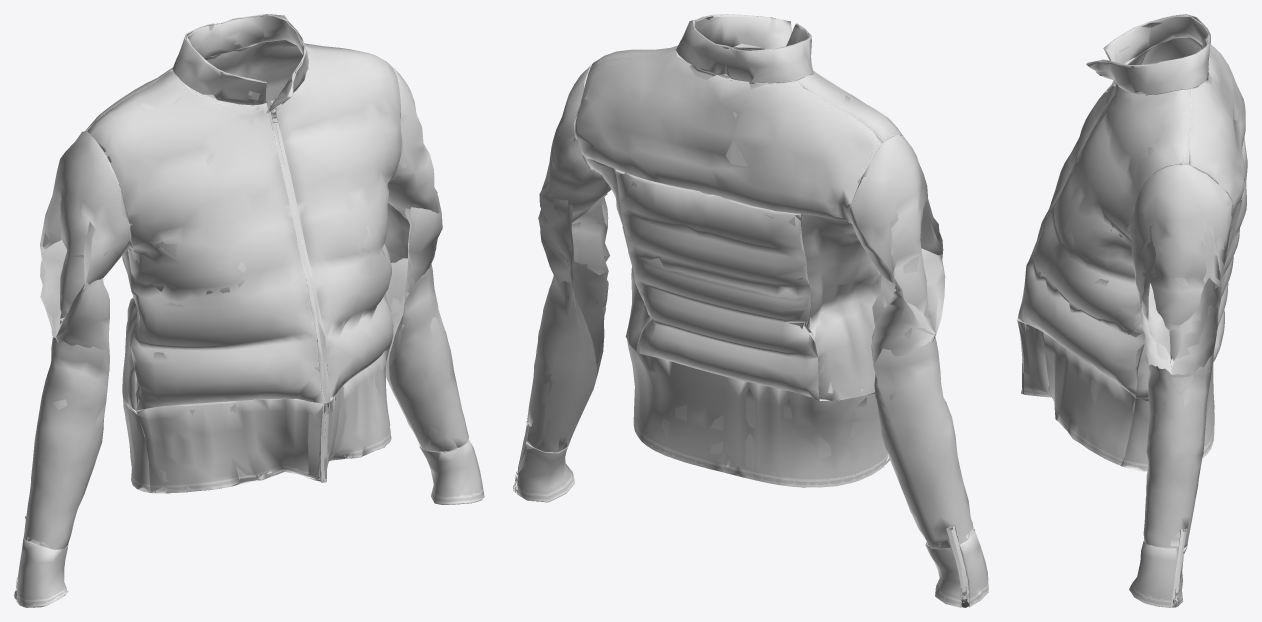
The model's file is puffer-02.glb.
The picture shows the model from 3 angles, left to right: view 1: azimuth 30°, elevation 25°; view 2: azimuth 150°, elevation 25°; view 3: azimuth 270°, elevation 25°; orthographic projection. The views are drawn at different scales.
Visible parts, largest first — view 1: puffer-02; view 2: puffer-02; view 3: puffer-02.
Part boxes in pixels (x1=…): puffer-02: x1=14, y1=14, x2=484, y2=607; puffer-02: x1=513, y1=14, x2=988, y2=607; puffer-02: x1=1017, y1=14, x2=1247, y2=607.
Size of the model in its own units: 2.3 by 2.48 by 1.09.
Materials: 3 (2 with a texture image).
